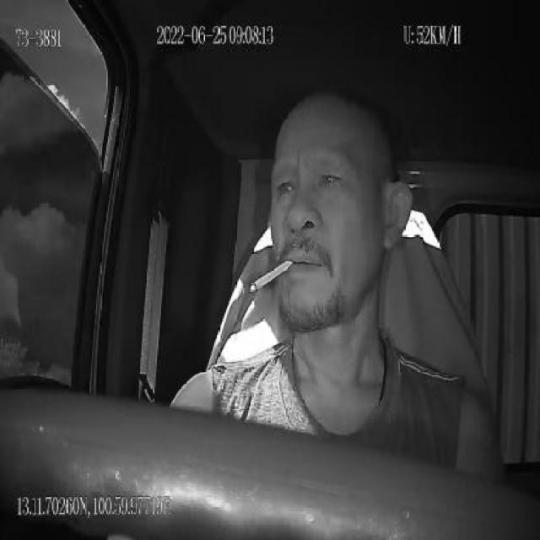smoking: (250, 256, 292, 294)
